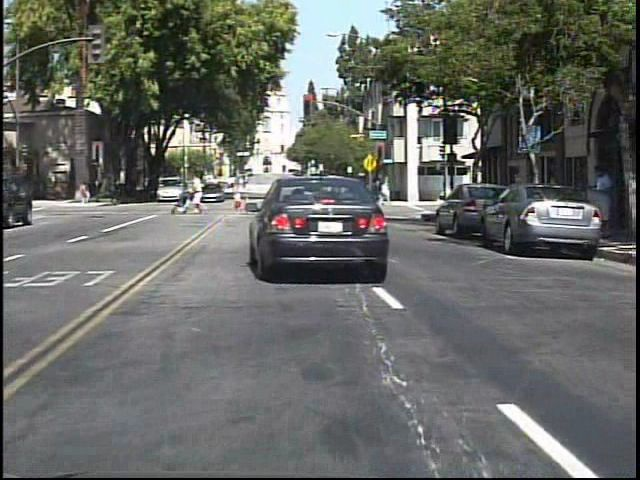person: (592, 161, 621, 241), (192, 172, 214, 219), (81, 177, 96, 207), (118, 174, 119, 205)
